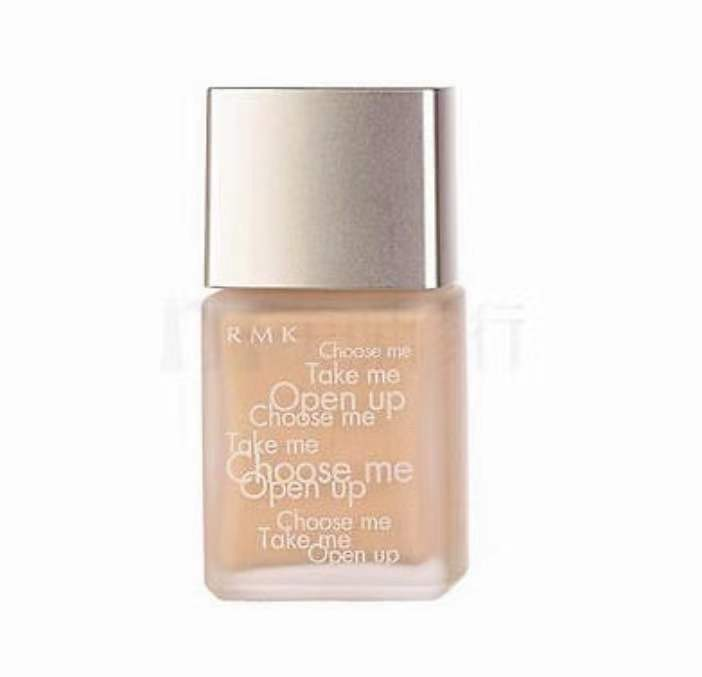cosmetic: (197, 84, 472, 602)
